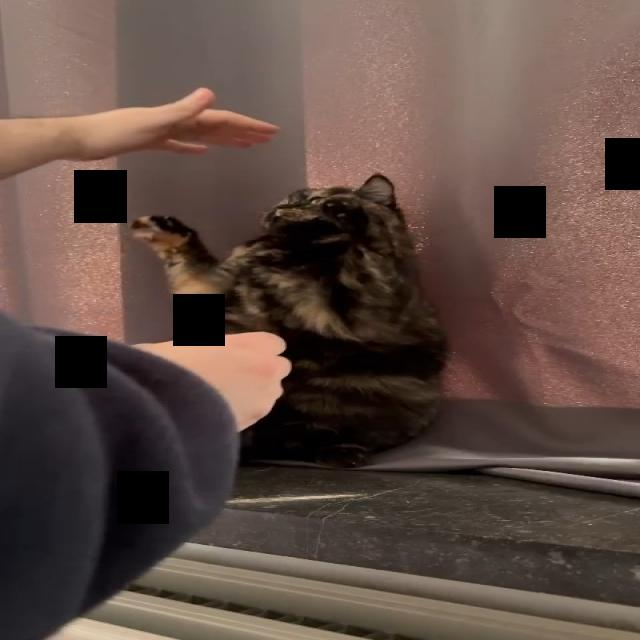authorized: (128, 172, 449, 469)
